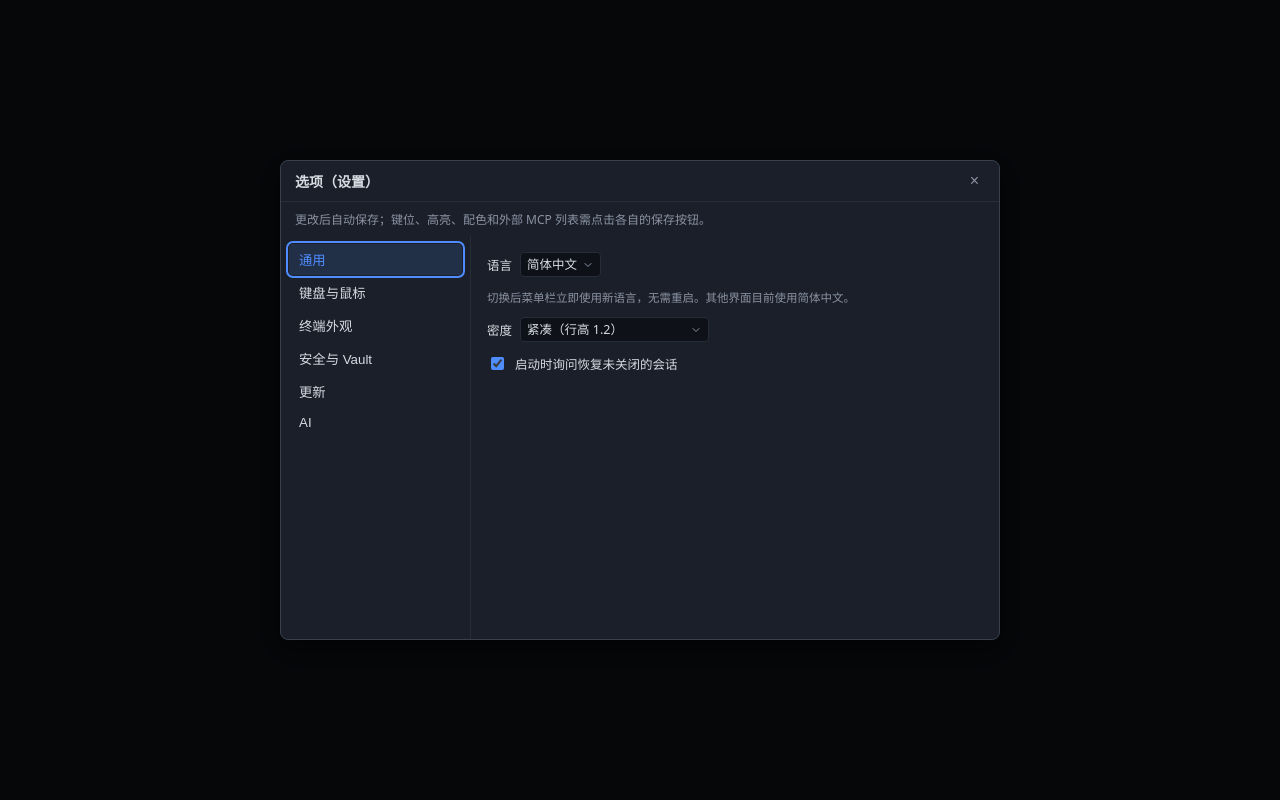
Test: SettingsDialog 设置回读 › 空库时通用/终端页的默认值同样来自 fallback 而非残留状态
The width and height of the screenshot is (1280, 800).
Expected: the checkbox with test id "set-restore-unclosed" is checked, x1=491 y1=357 x2=504 y2=370
Click the tab "终端外观".
click(376, 326)  # box x1=289 y1=310 x2=462 y2=341
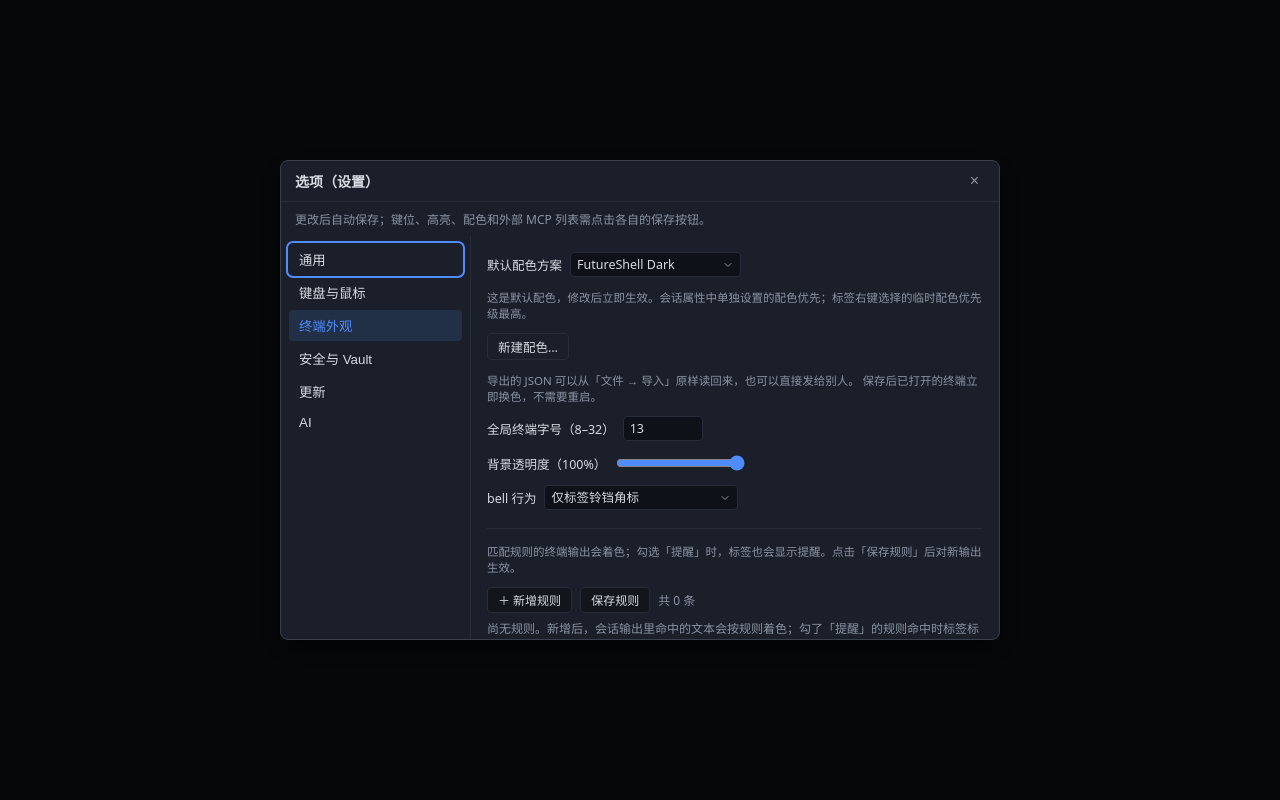
Result: the dropdown with test id "set-bell" shows "仅标签铃铛角标" at x1=544 y1=485 x2=738 y2=510
